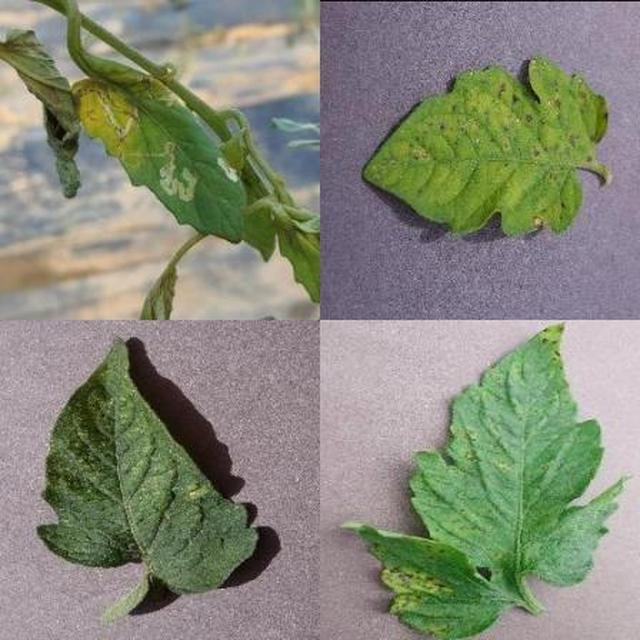Leaf Miner: (212, 209, 640, 640)
